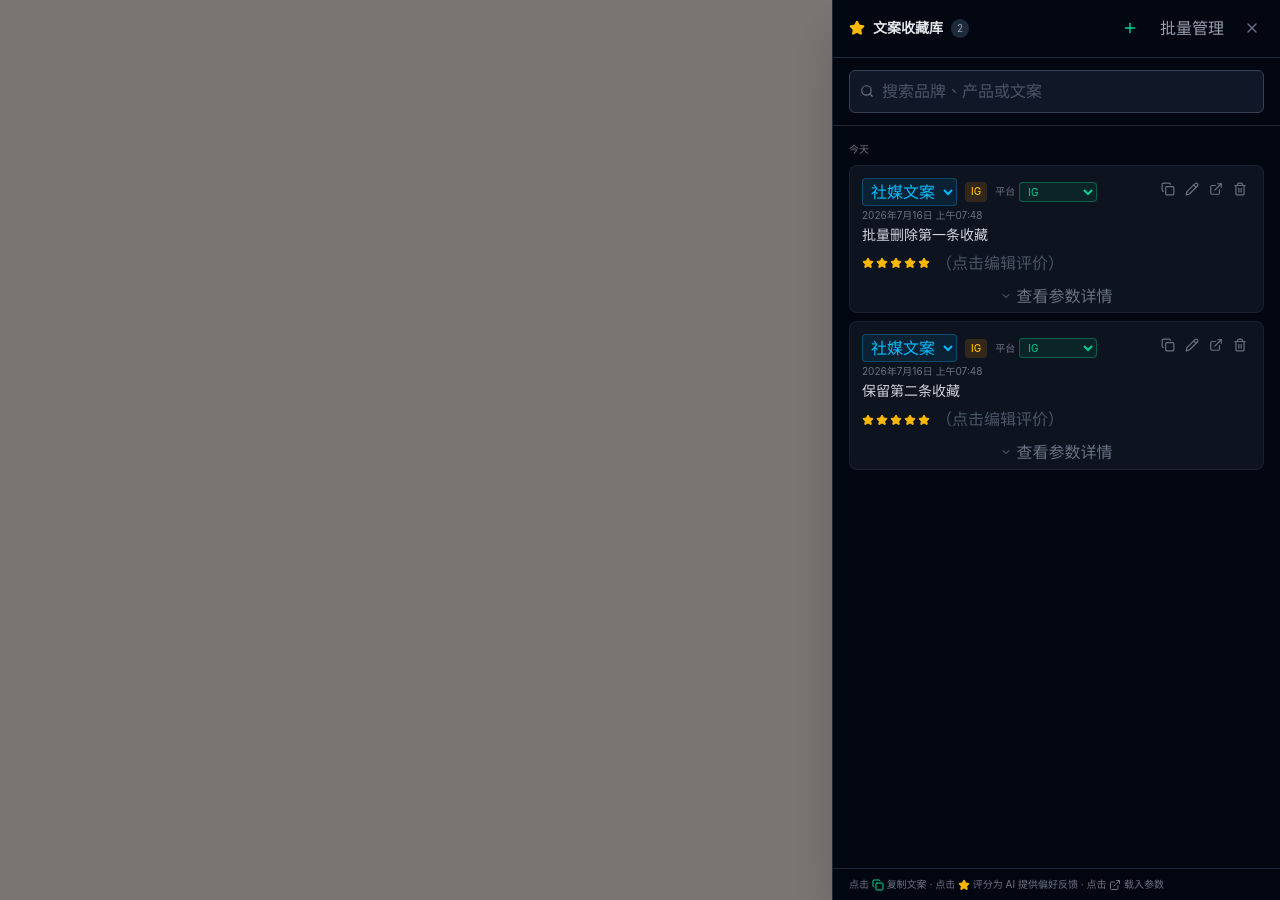
收藏库批量删除 › 支持多选并只删除确认的收藏
This screenshot has width=1280, height=900.
Click the button "批量管理": (1192, 28) [1152, 12, 1232, 45]
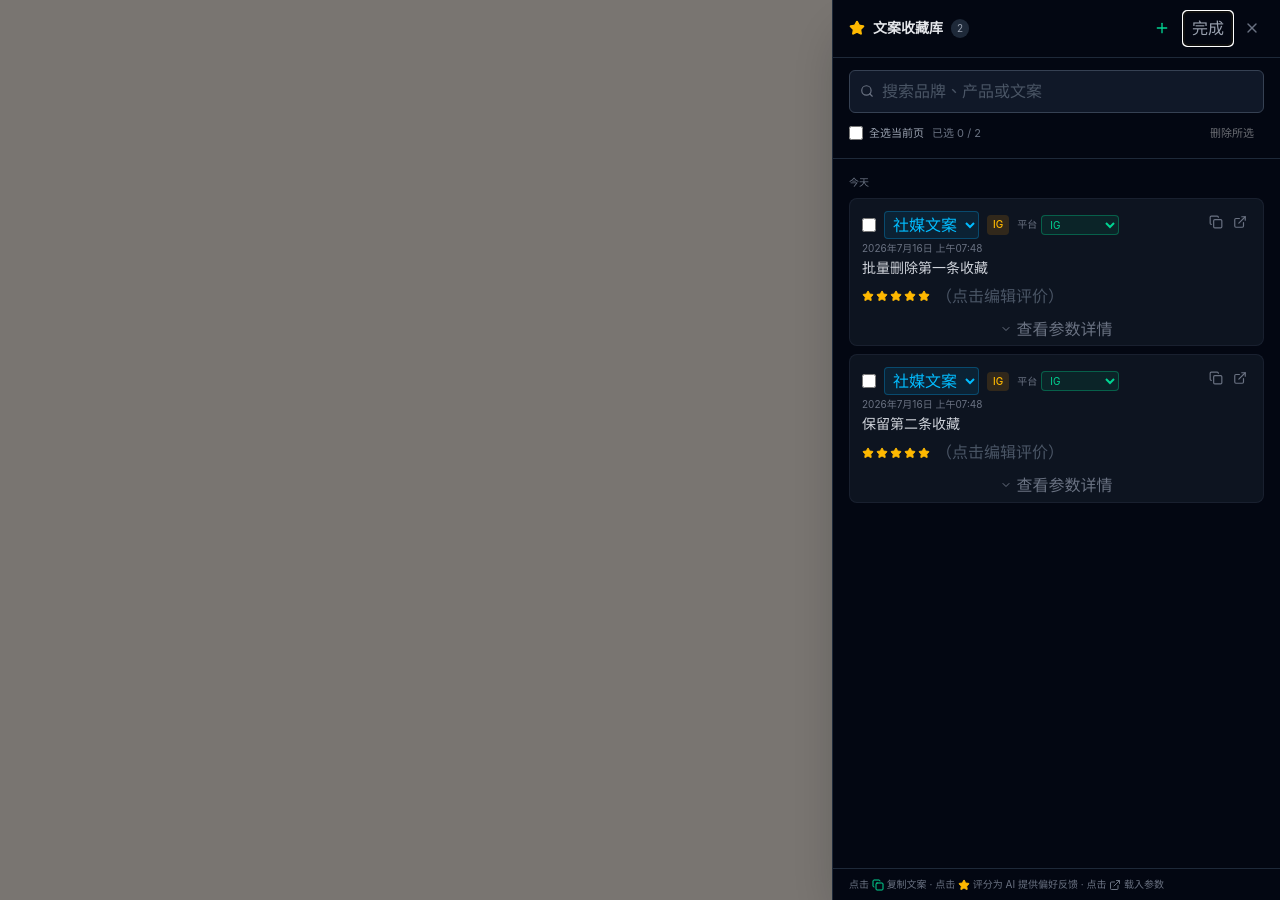
Click the checkbox named "选择收藏：批量删除第一条收藏": (869, 225) [862, 218, 876, 232]
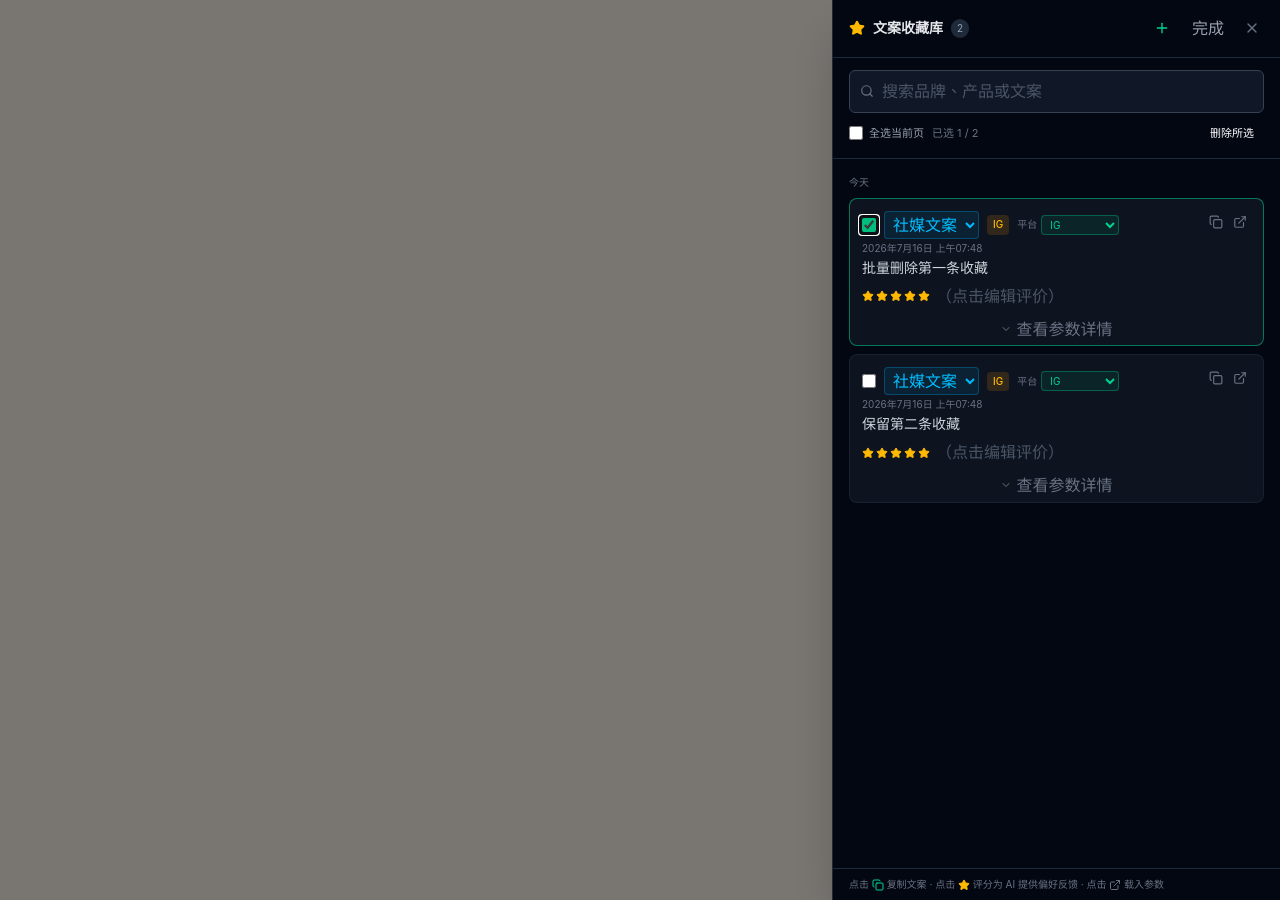
Check: the text "已选 1 / 2" is shown, box [932, 125, 978, 142]
Click the button "删除所选": (1232, 133) [1200, 121, 1264, 146]
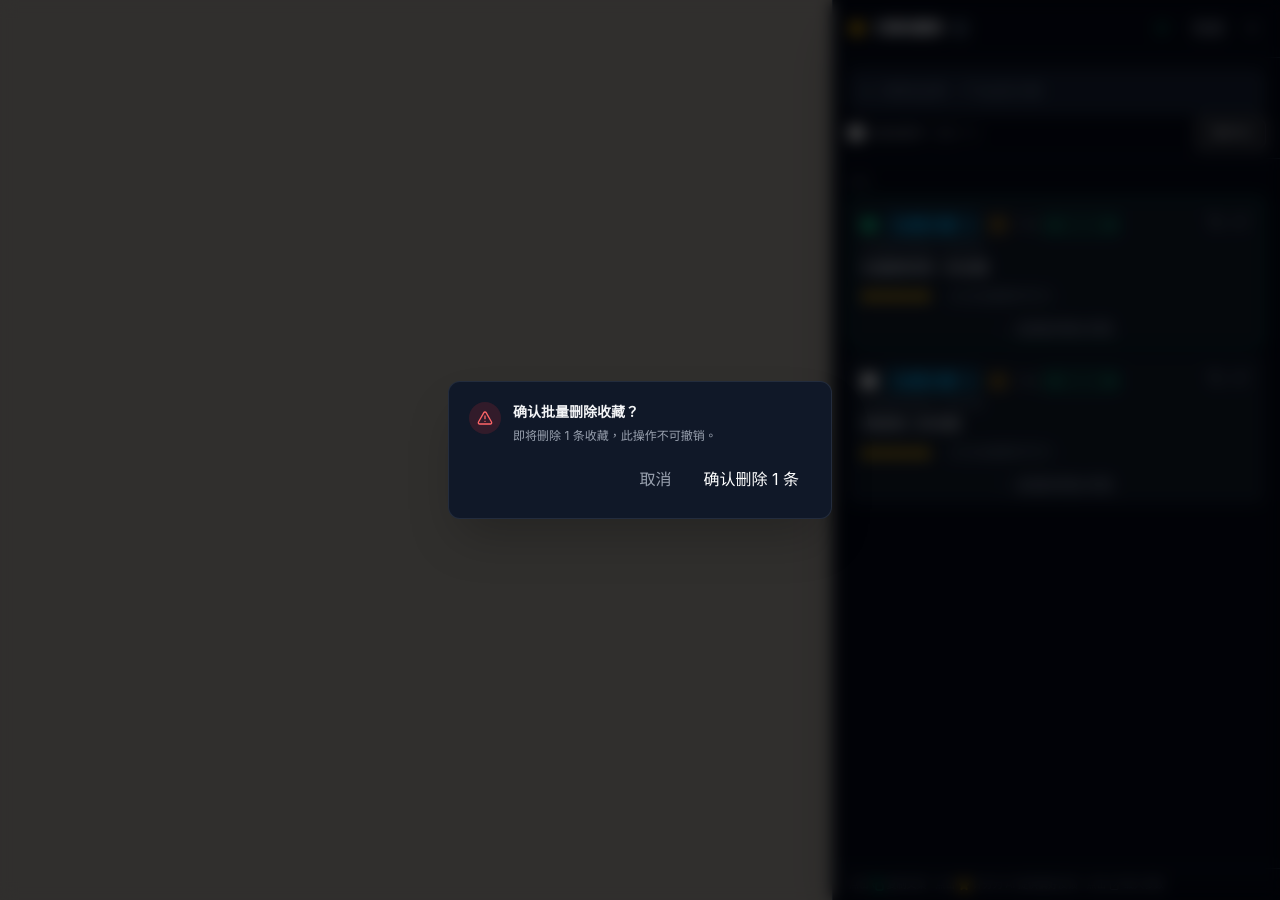
Check: the dialog shows "确认批量删除收藏", box [513, 403, 639, 420]
Click the button "确认删除 1 条": (751, 480) [692, 461, 811, 498]
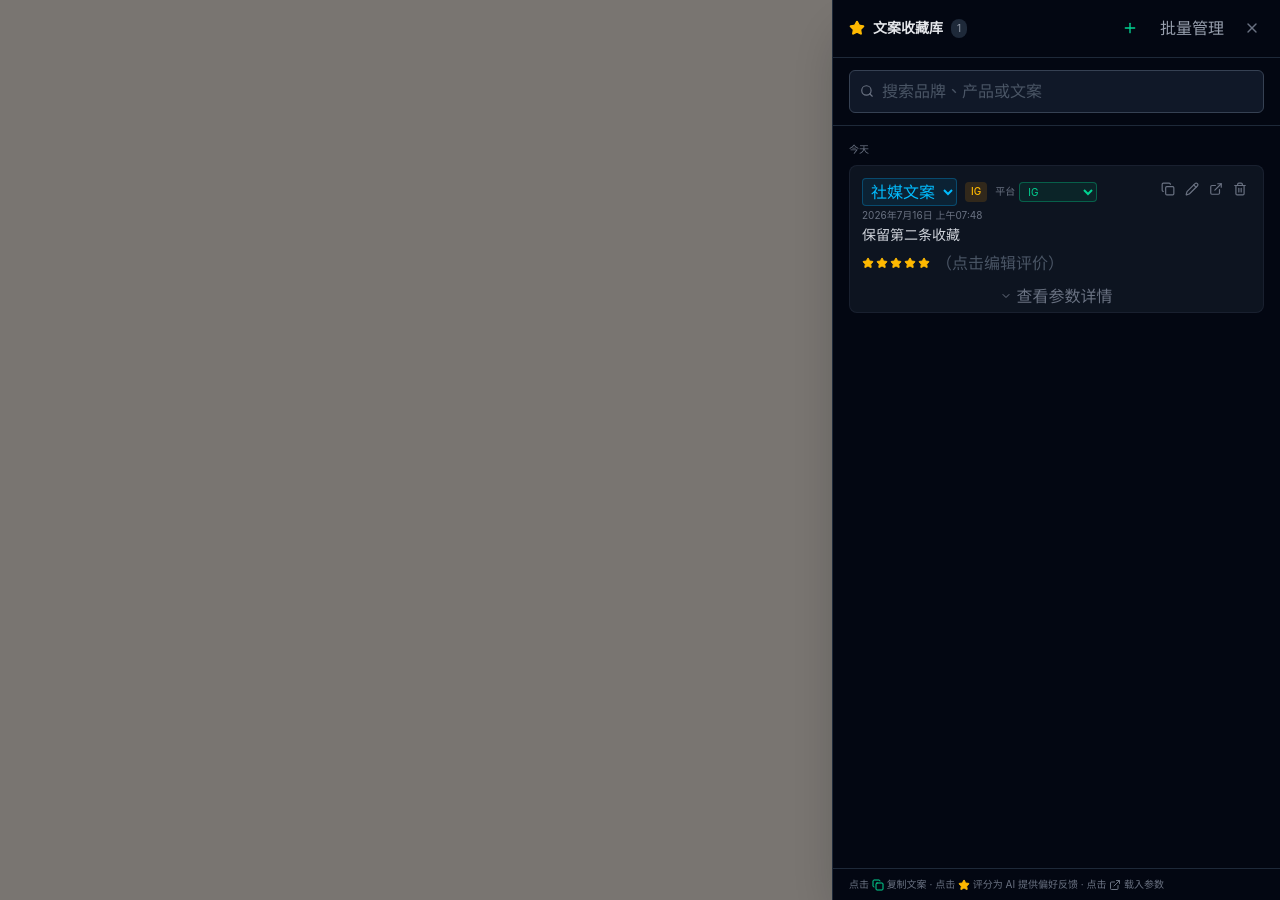
Check: the text "保留第二条收藏" is shown, box [862, 226, 960, 243]
Check: the text "批量删除第一条收藏" is gone
